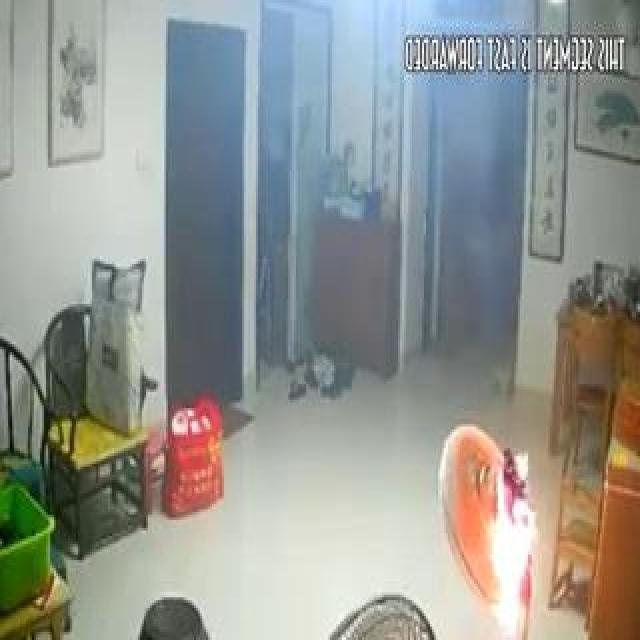Fire: (435, 382, 543, 622)
